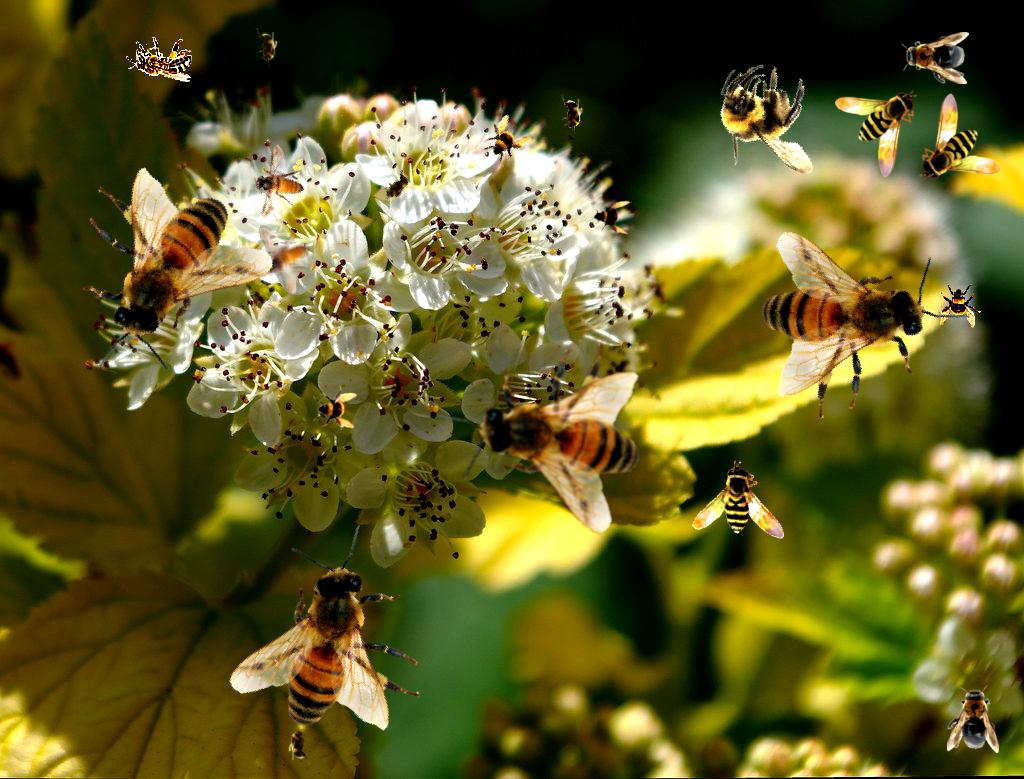Bee: (415, 292, 700, 578), (188, 502, 473, 779), (706, 180, 987, 460), (33, 135, 298, 397), (696, 50, 845, 195), (683, 457, 805, 577), (919, 93, 1001, 181), (835, 90, 917, 178), (236, 143, 318, 230), (258, 223, 312, 298), (473, 109, 535, 171), (947, 685, 999, 753), (901, 32, 969, 84), (126, 37, 192, 82), (374, 165, 420, 209), (588, 193, 632, 237), (938, 284, 982, 328), (313, 386, 357, 430), (288, 724, 310, 764), (256, 28, 278, 68), (561, 95, 583, 135)
